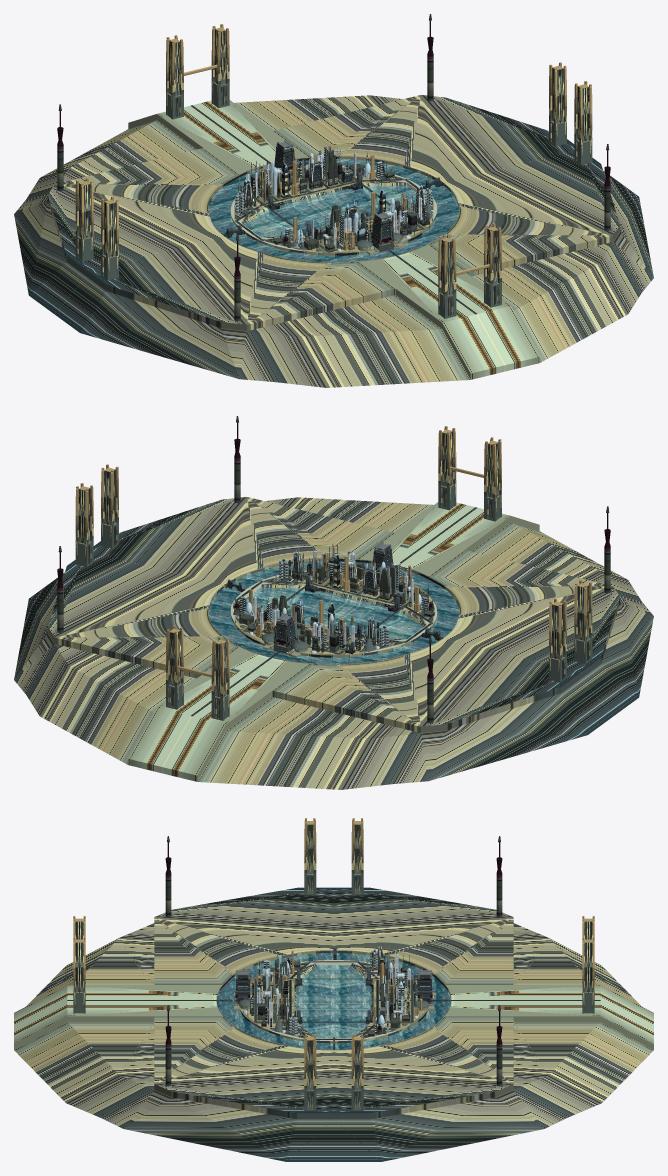
The model's file is cyberpunk_city.glb.
3 renders of one model, top to bottom at view 1: azimuth 30°, elevation 25°; view 2: azimuth 150°, elevation 25°; view 3: azimuth 270°, elevation 25°, orthographic. The views are drawn at different scales.
Visible parts, largest first — view 1: Material2, Material3; view 2: Material2, Material3; view 3: Material2, Material3.
Boxes of the visible parts, box(x1,y1,x2,y2) form: Material2: box(14, 14, 653, 387); Material3: box(208, 159, 459, 262); Material2: box(14, 416, 653, 789); Material3: box(208, 561, 459, 664); Material2: box(14, 818, 653, 1161); Material3: box(217, 953, 450, 1049).
Bounding box in the file's own units: 18504 × 3850 × 19640.
4 materials, 2 textured.
